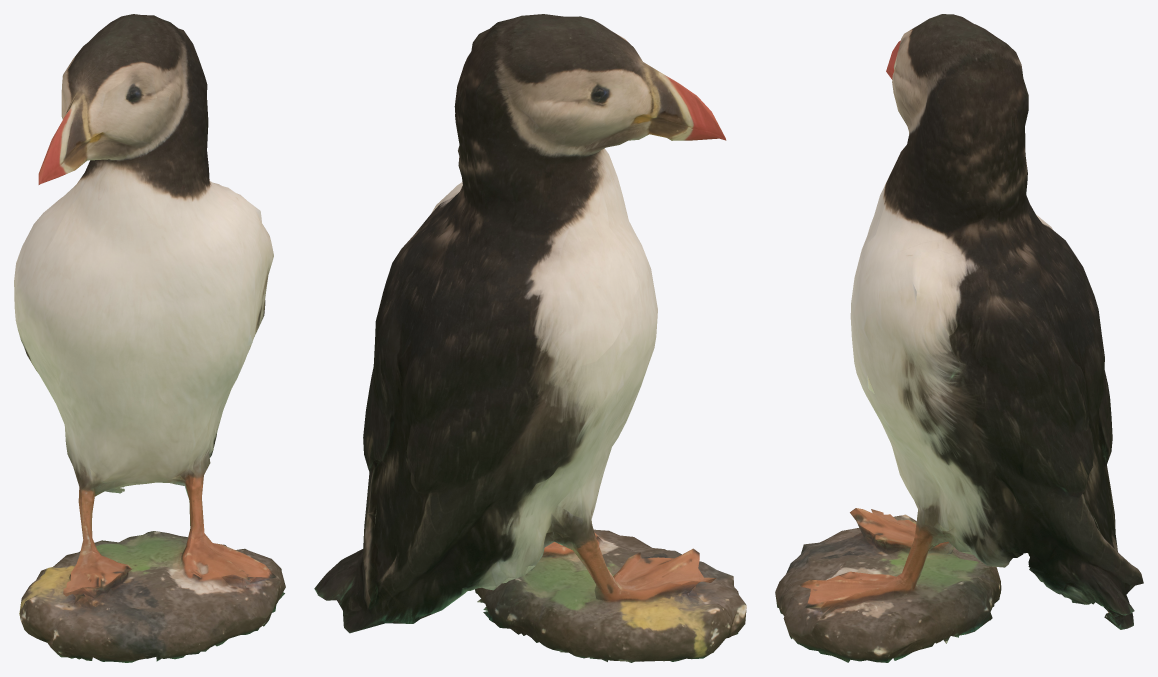
File: puffin.glb
The picture shows the model from 3 angles, left to right: view 1: azimuth 30°, elevation 25°; view 2: azimuth 150°, elevation 25°; view 3: azimuth 270°, elevation 25°; orthographic projection. The views are drawn at different scales.
Visible parts, largest first — view 1: Object_2, Object_3; view 2: Object_2, Object_3; view 3: Object_3, Object_2.
Boxes of the visible parts, <box> form: Object_2: <box>14,14,275,606</box>; Object_3: <box>14,16,285,662</box>; Object_2: <box>318,22,721,633</box>; Object_3: <box>314,14,746,662</box>; Object_3: <box>775,14,1127,662</box>; Object_2: <box>805,29,1143,629</box>.
Bounding box in the file's own units: 1.46 × 2.95 × 1.65.
2 materials, 2 textured.
